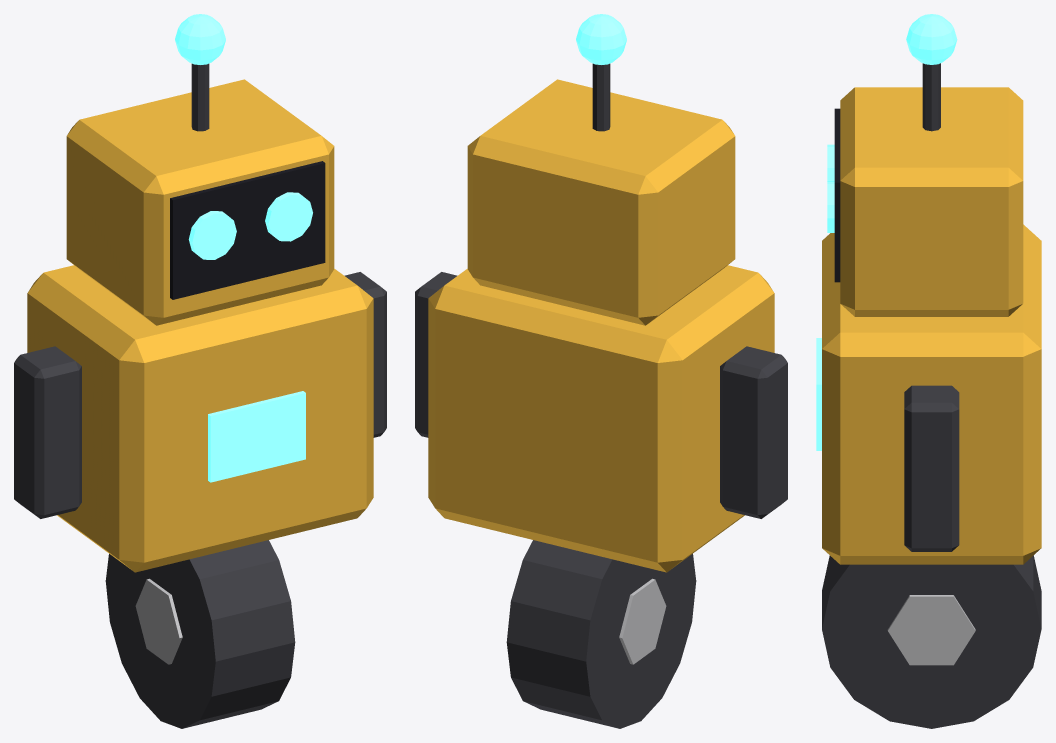
File: robot.glb
3 renders of one model, left to right at view 1: azimuth 30°, elevation 25°; view 2: azimuth 150°, elevation 25°; view 3: azimuth 270°, elevation 25°, orthographic.
Parts seen in each view (by area): view 1: Body, Head, Wheel, ArmL, ArmR; view 2: Body, Head, Wheel, ArmL, ArmR; view 3: Body, Head, Wheel, ArmR.
Part boxes in pixels (x1,y1,x2,y2): Body: (27, 265, 373, 572); Head: (66, 14, 334, 325); Wheel: (105, 540, 295, 728); ArmL: (14, 346, 81, 518); ArmR: (344, 272, 386, 437); Body: (428, 265, 774, 572); Head: (467, 14, 735, 325); Wheel: (506, 540, 696, 728); ArmL: (720, 346, 787, 518); ArmR: (415, 272, 457, 437); Body: (816, 224, 1041, 564); Head: (827, 14, 1023, 316); Wheel: (822, 555, 1041, 728); ArmR: (904, 385, 959, 551).
Size of the model in its own units: 1.11 by 2.09 by 0.615.
